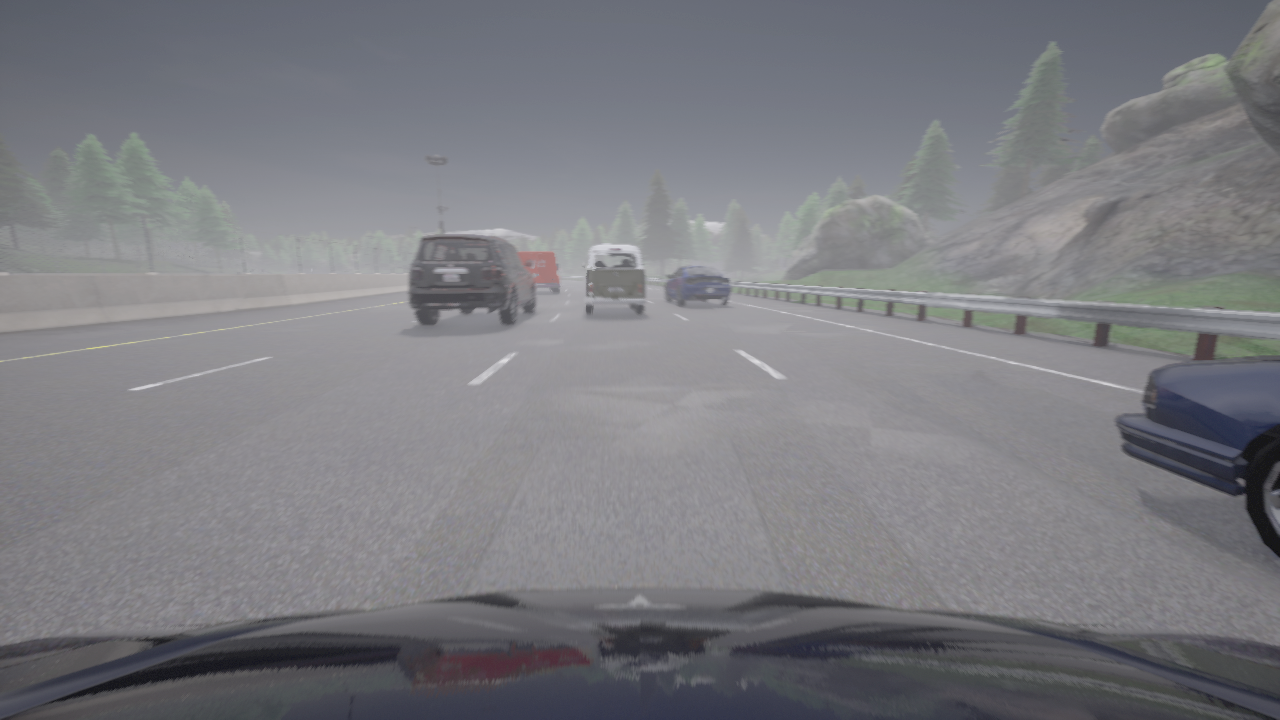cyclist: (0, 588, 1279, 719), (1115, 356, 1279, 558), (409, 235, 535, 325), (582, 244, 645, 314), (665, 265, 730, 305), (519, 252, 559, 292)
